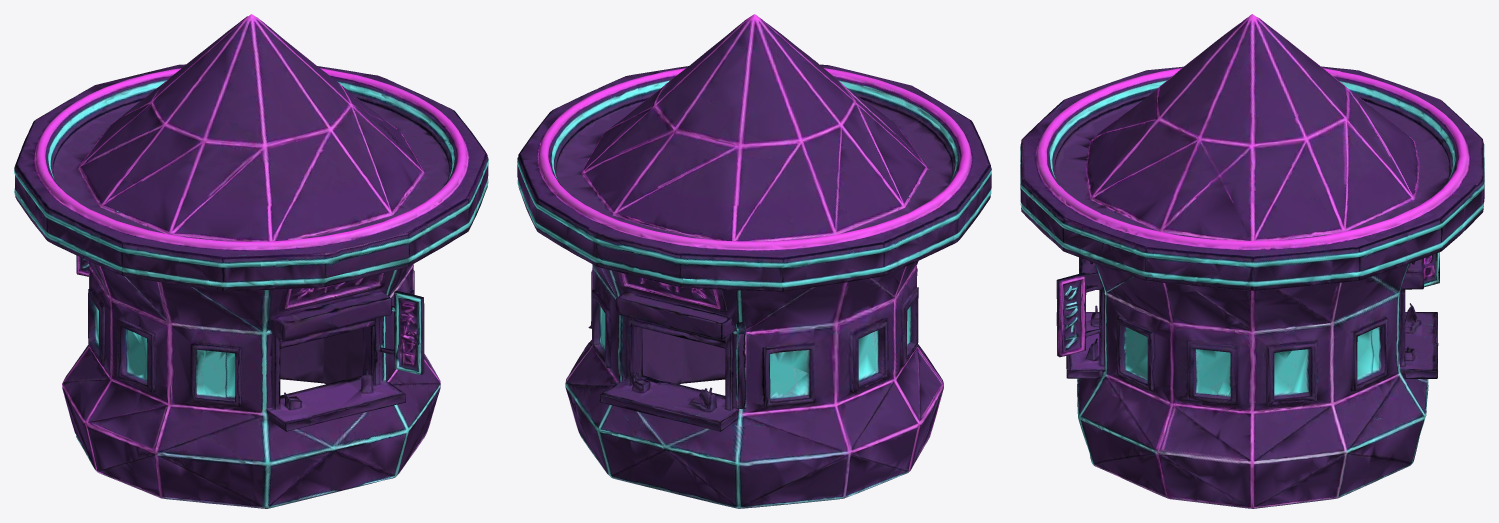
Rendered from kiosk.glb.
3 renders of one model, left to right at view 1: azimuth 30°, elevation 25°; view 2: azimuth 150°, elevation 25°; view 3: azimuth 270°, elevation 25°, orthographic.
Parts seen in each view (by area): view 1: mesh_node; view 2: mesh_node; view 3: mesh_node.
Part boxes in pixels (x1,y1,x2,y2): mesh_node: (14,14,488,508); mesh_node: (517,14,991,508); mesh_node: (1020,14,1484,508).
Bounding box in the file's own units: 1.9 × 1.88 × 1.88.
Materials: 1 (1 with a texture image).
